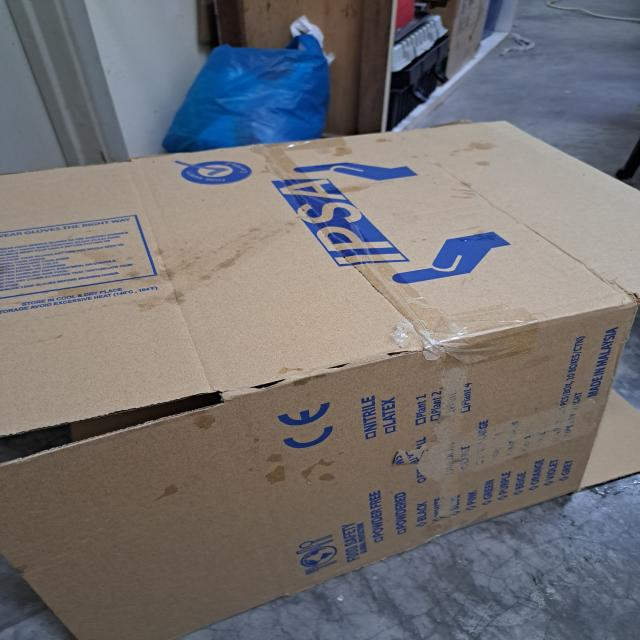cardboard: (0, 118, 640, 640)
plastic bag: (160, 34, 332, 152)
